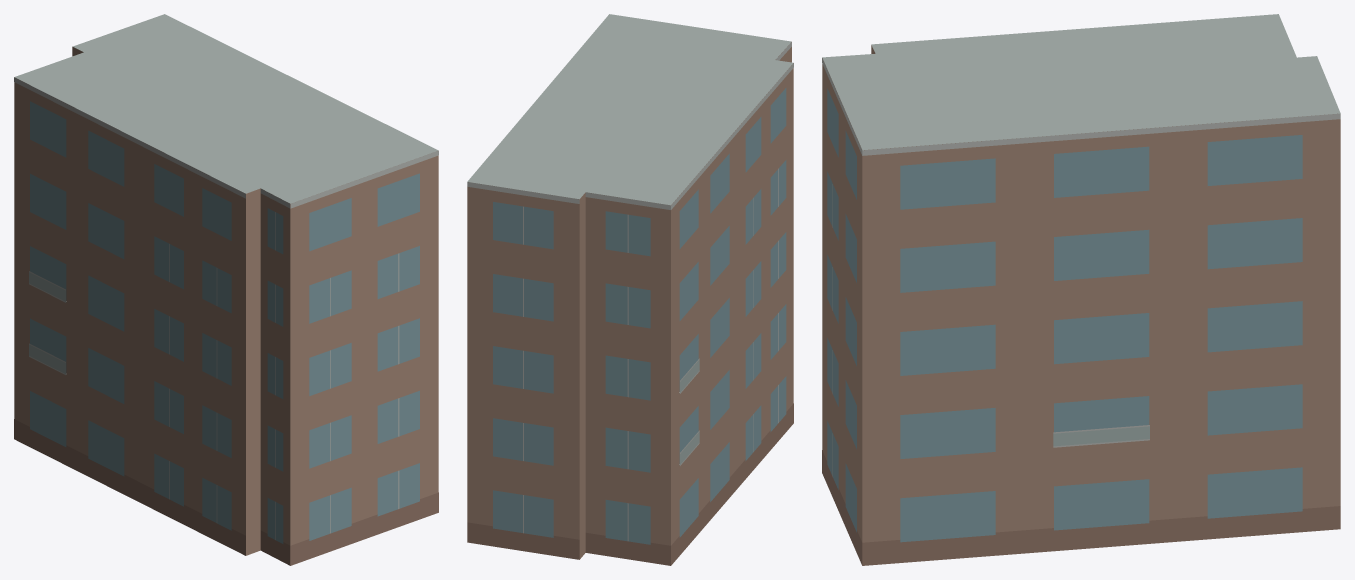
The model's file is survey-upis-32480520.glb.
3 views of the same model, side by side, from view 1: azimuth 30°, elevation 25°; view 2: azimuth 150°, elevation 25°; view 3: azimuth 270°, elevation 25° (orthographic). The views are drawn at different scales.
Parts seen in each view (by area): view 1: survey-upis-32480520.tmp; view 2: survey-upis-32480520.tmp; view 3: survey-upis-32480520.tmp.
Boxes of the visible parts, box(x1,y1,x2,y2) form: survey-upis-32480520.tmp: box(14, 14, 438, 565); survey-upis-32480520.tmp: box(467, 14, 793, 565); survey-upis-32480520.tmp: box(822, 14, 1340, 565).
Bounding box in the file's own units: 12.66 × 18 × 20.36.
